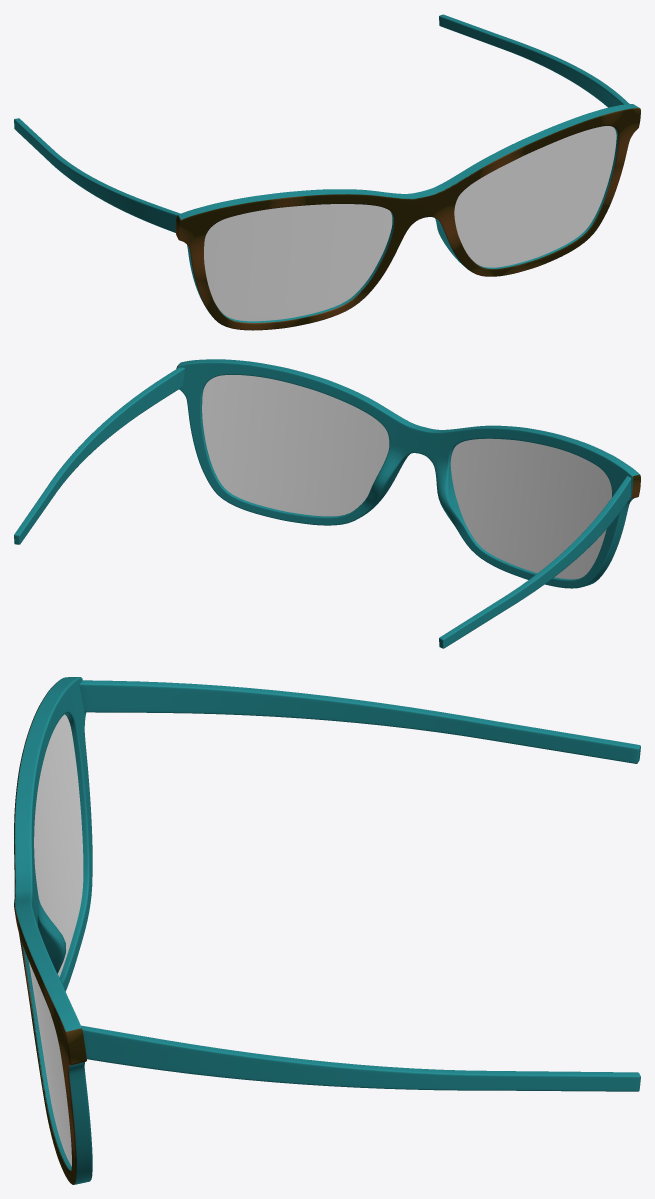
The model's file is Rb_7108L_APP_09072020.glb.
The picture shows the model from 3 angles, top to bottom: view 1: azimuth 30°, elevation 25°; view 2: azimuth 150°, elevation 25°; view 3: azimuth 270°, elevation 25°; orthographic projection. The views are drawn at different scales.
Visible parts, largest first — view 1: Lentes, Det frente, Armacao; view 2: Lentes, Armacao; view 3: Armacao, Lentes, Det frente.
Boxes of the visible parts, x1=… form: Lentes: x1=204, y1=126, x2=616, y2=321; Det frente: x1=175, y1=108, x2=640, y2=330; Armacao: x1=14, y1=14, x2=638, y2=322; Lentes: x1=202, y1=375, x2=611, y2=579; Armacao: x1=14, y1=359, x2=639, y2=648; Armacao: x1=15, y1=677, x2=640, y2=1184; Lentes: x1=29, y1=714, x2=83, y2=1166; Det frente: x1=14, y1=679, x2=86, y2=1184.
Size of the model in its own units: 0.1603 by 0.0454 by 0.1147.
3 materials, 1 textured.
